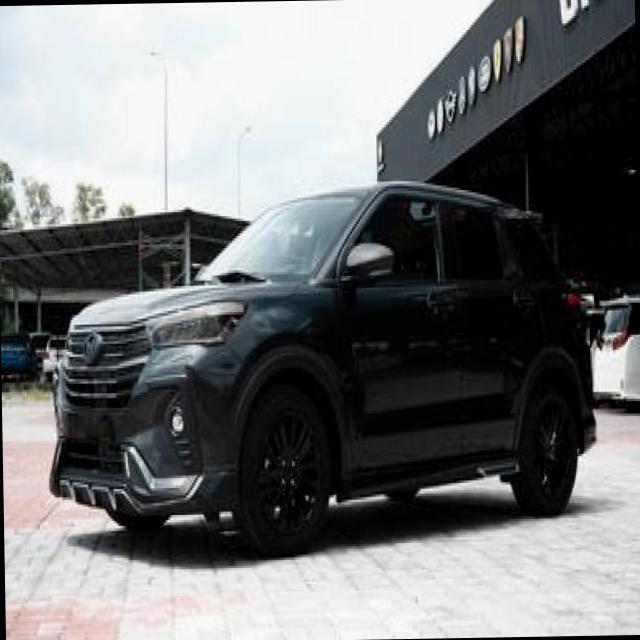PeroduaBezza: (43, 174, 600, 561)
